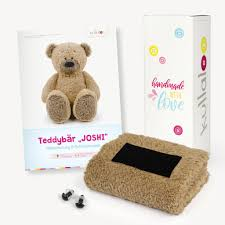teddy: (32, 39, 105, 125)
